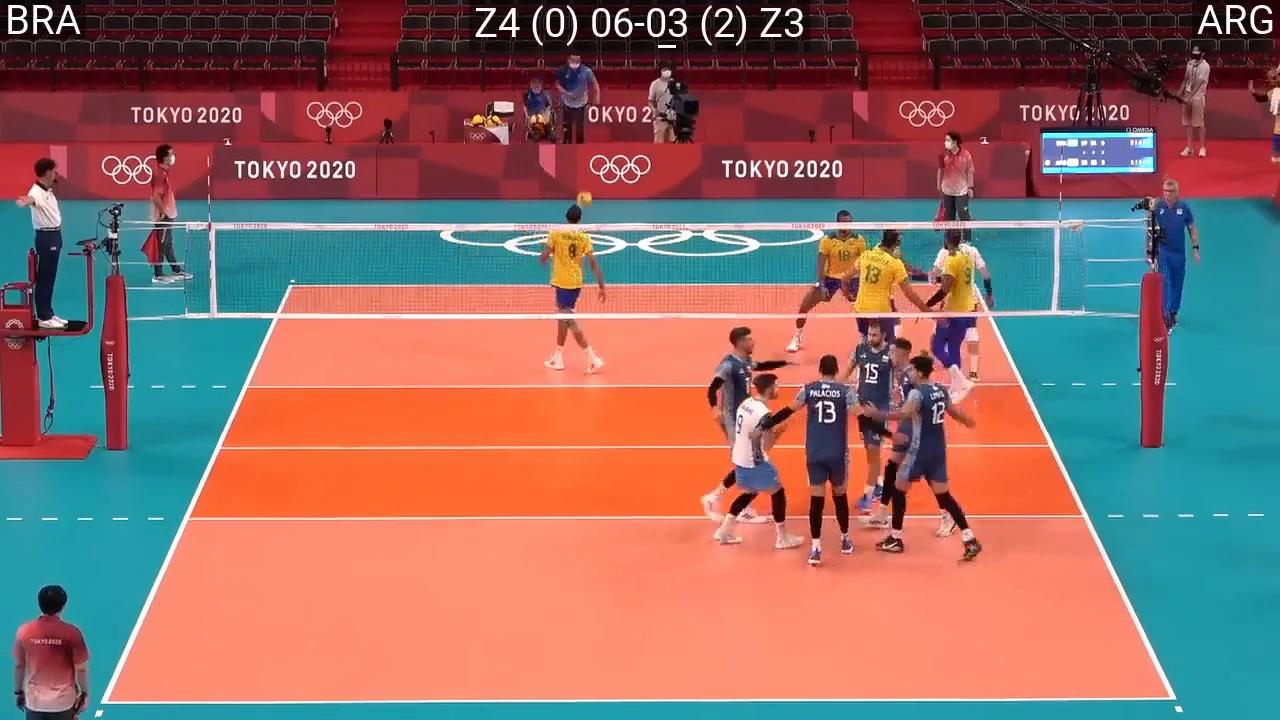ball: (577, 192, 593, 209)
